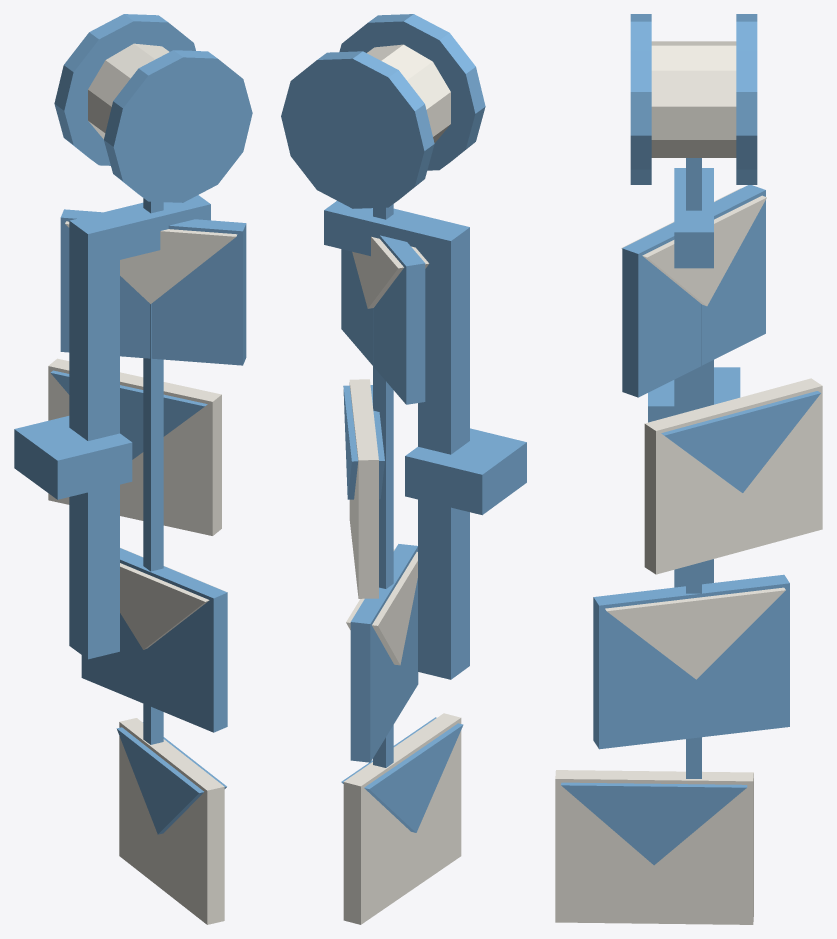
The model's file is replyall_m1_2.glb.
3 renders of one model, left to right at view 1: azimuth 30°, elevation 25°; view 2: azimuth 150°, elevation 25°; view 3: azimuth 270°, elevation 25°, orthographic. The views are drawn at different scales.
Parts seen in each view (by area): view 1: replyall_m1_2_mesh; view 2: replyall_m1_2_mesh; view 3: replyall_m1_2_mesh.
Part boxes in pixels (<box>): replyall_m1_2_mesh: <box>14,14,252,924</box>; replyall_m1_2_mesh: <box>281,14,526,924</box>; replyall_m1_2_mesh: <box>555,14,822,924</box>.
Size of the model in its own units: 0.175 by 0.75 by 0.2025.
